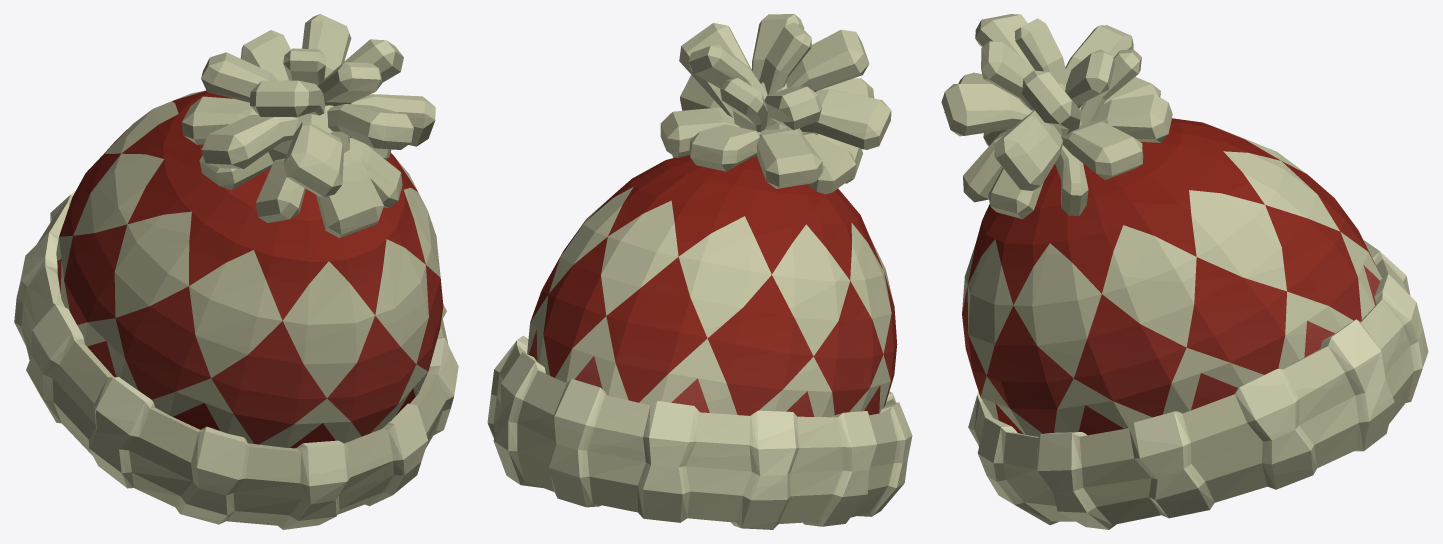
File: CharSkyKid_Hair_WinterHat_01.glb
3 views of the same model, side by side, from view 1: azimuth 30°, elevation 25°; view 2: azimuth 150°, elevation 25°; view 3: azimuth 270°, elevation 25° (orthographic). The views are drawn at different scales.
Parts seen in each view (by area): view 1: CharSkyKid_Hair_WinterHat_01; view 2: CharSkyKid_Hair_WinterHat_01; view 3: CharSkyKid_Hair_WinterHat_01.
Boxes of the visible parts, <box> form: CharSkyKid_Hair_WinterHat_01: <box>14,14,458,529</box>; CharSkyKid_Hair_WinterHat_01: <box>487,14,912,529</box>; CharSkyKid_Hair_WinterHat_01: <box>941,14,1428,529</box>.
Bounding box in the file's own units: 2.87 × 3.51 × 3.34.
1 material, 1 textured.
